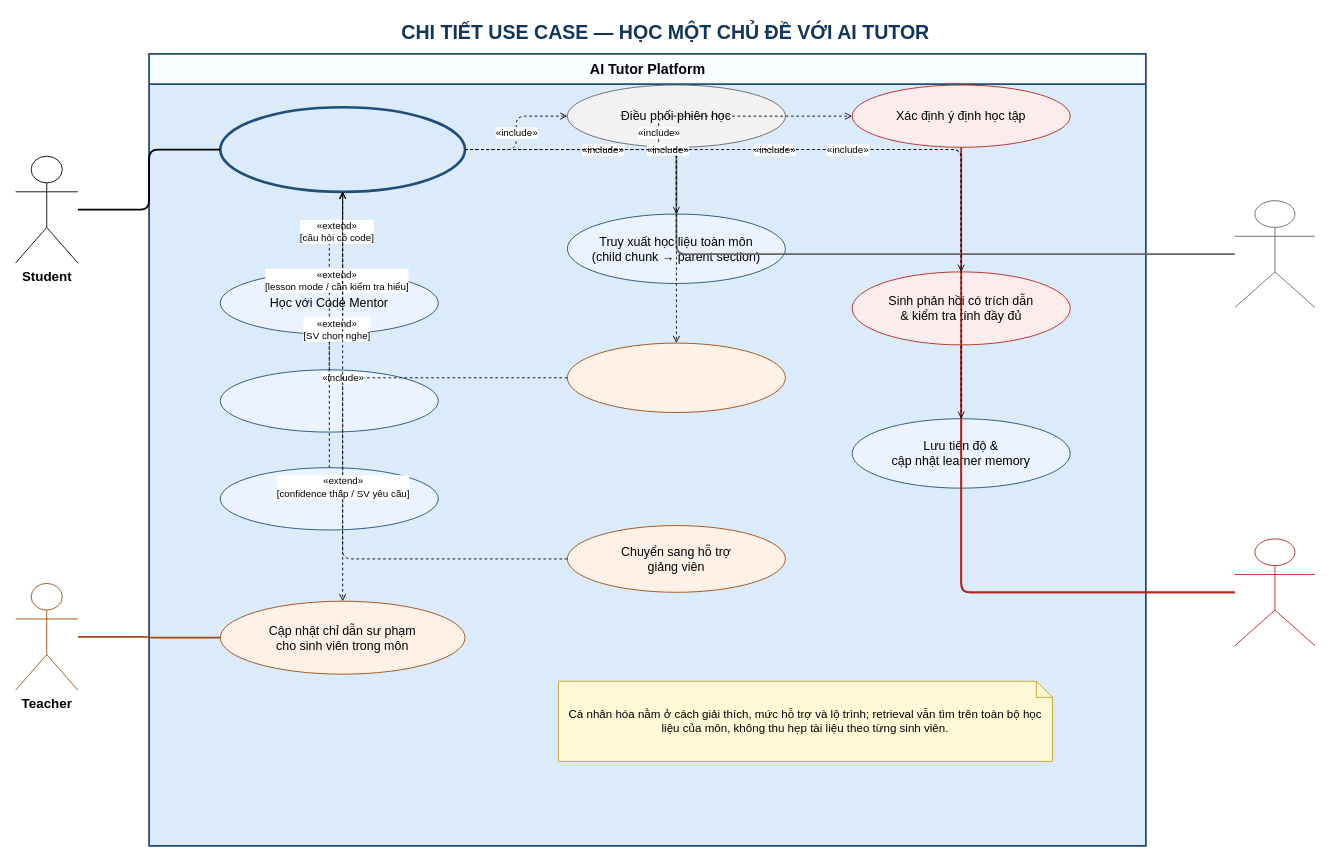
Image size: 1338x862. Some labels were removed from this diagram. Here are the shapes that lost their labels. From the top down, the box of each, then its label:
(218, 105, 466, 193): Học một chủ đề với AI Tutor
(1234, 200, 1315, 307): System Handler
(566, 342, 785, 413): Áp dụng hồ sơ học tập & chỉ dẫn sư phạm
(219, 369, 438, 432): Làm kiểm tra hiểu
(219, 467, 438, 530): Nghe câu trả lời bằng TTS
(1234, 538, 1315, 646): AI Service
